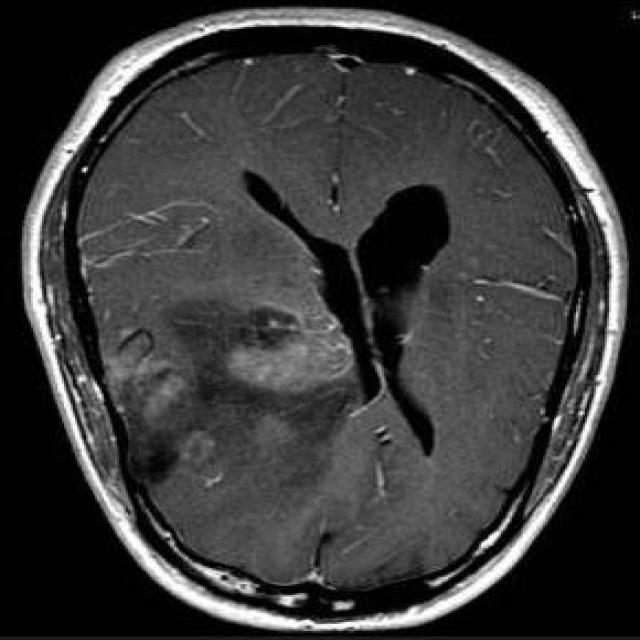Tumor-Cell: (107, 326, 386, 562)
